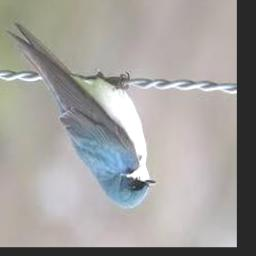Swallow: (6, 23, 158, 208)
